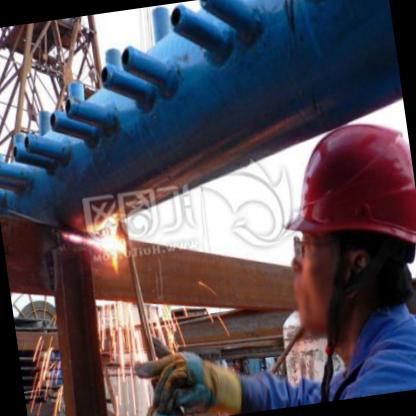helmet: (246, 79, 416, 359)
